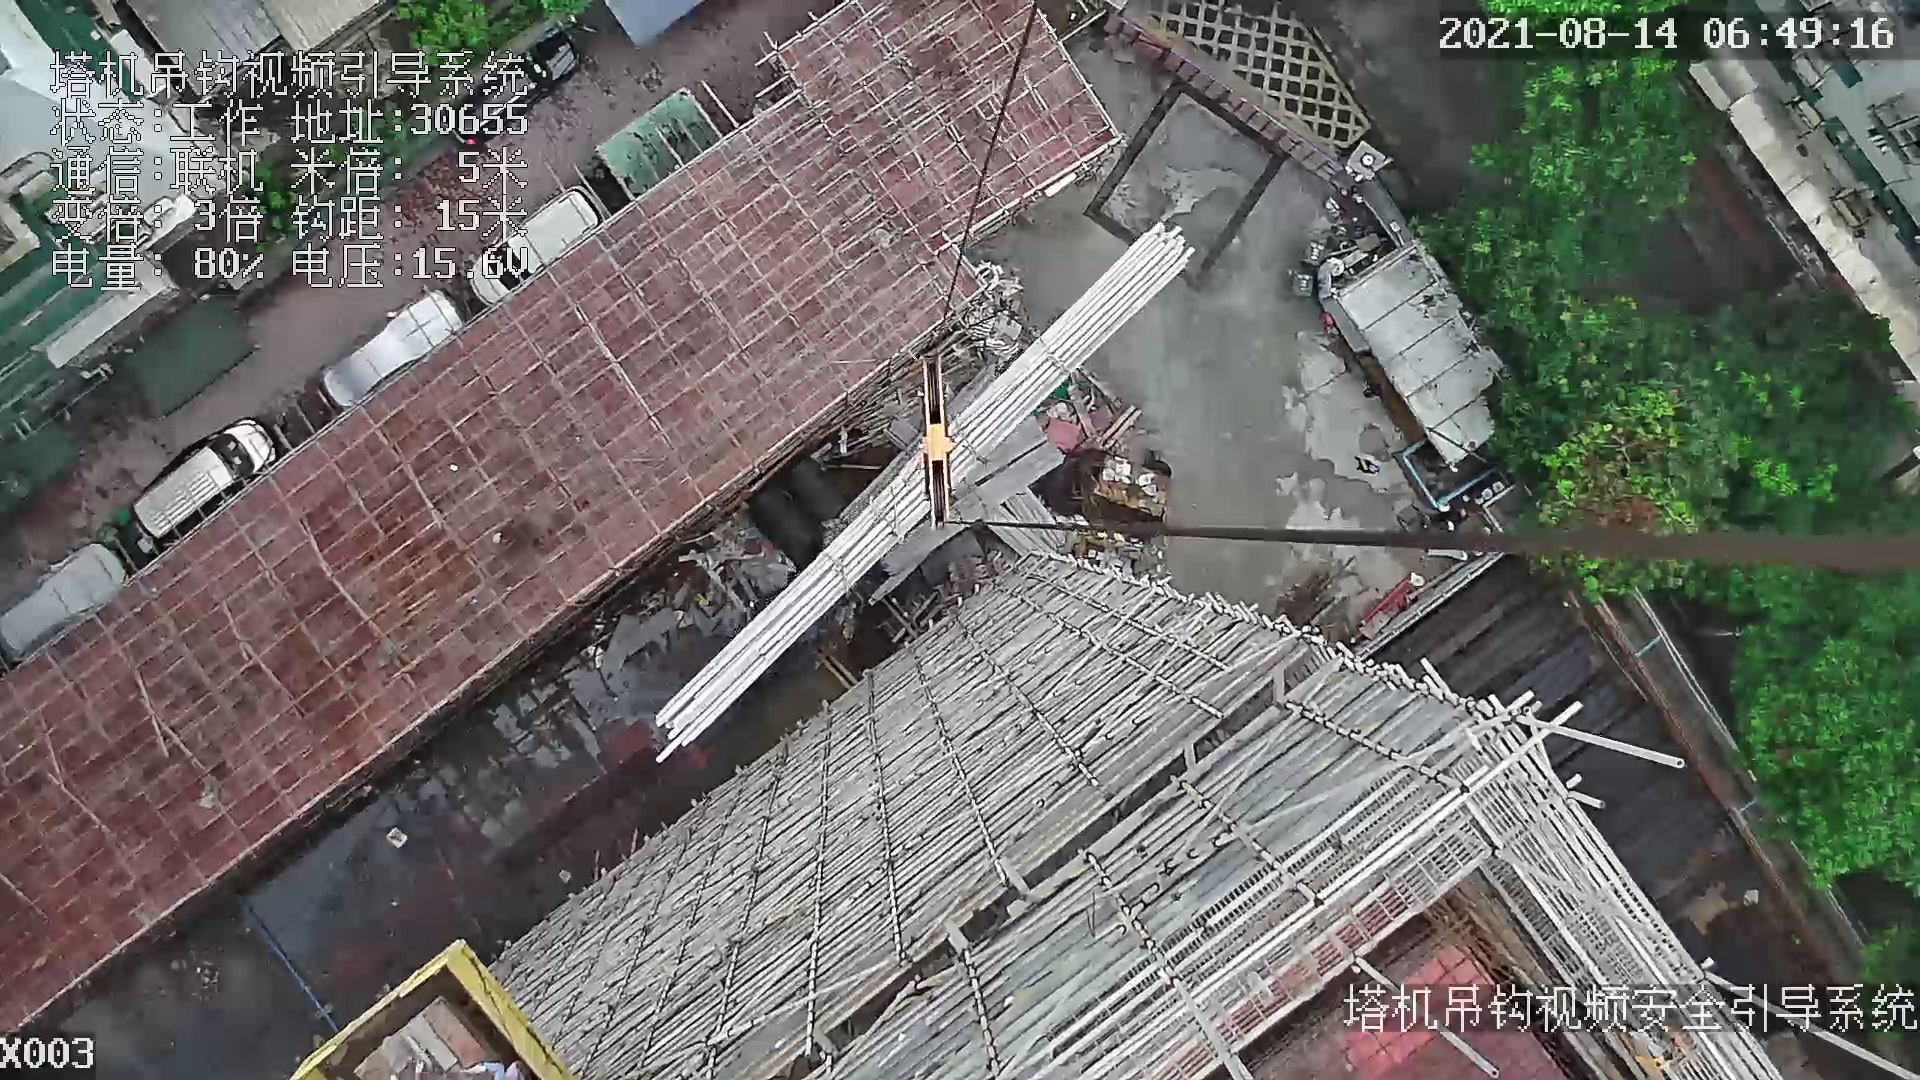hook: (912, 353, 963, 526)
hopper: (1399, 437, 1500, 515)
person: (1354, 450, 1386, 480)
